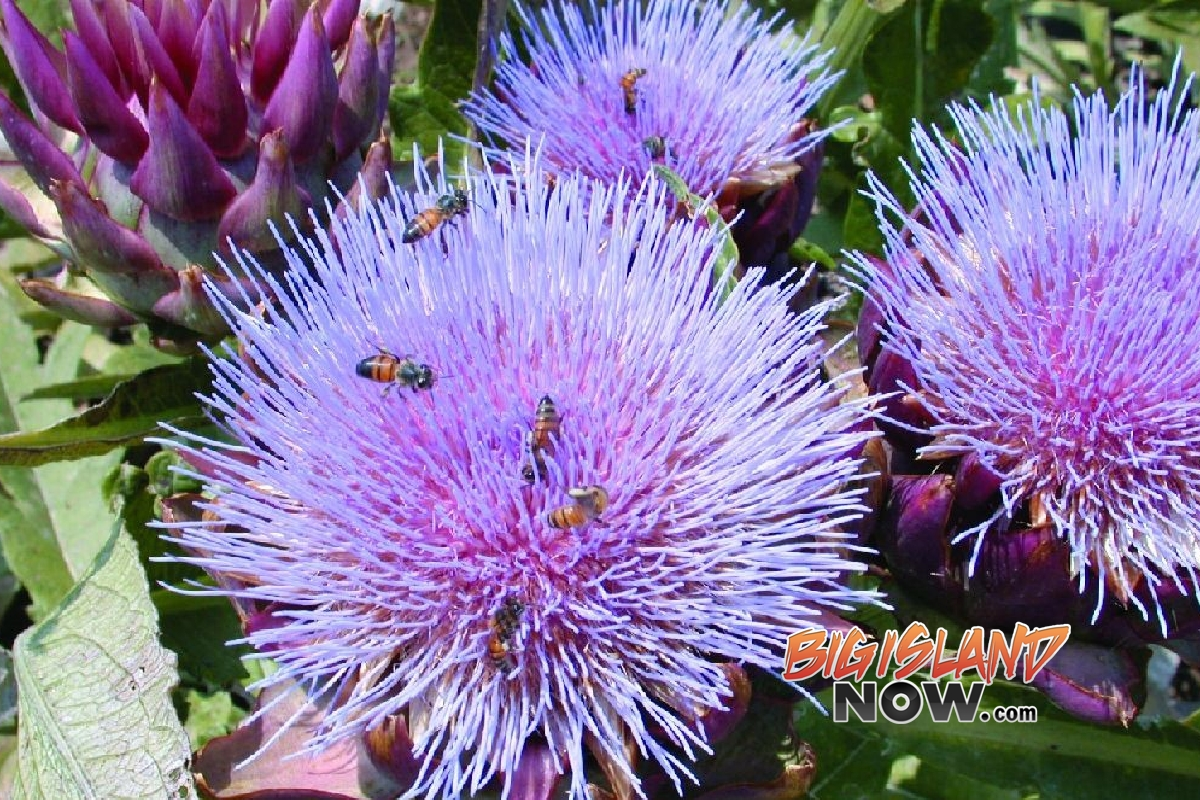thistle: (187, 203, 878, 800), (875, 80, 1200, 664), (469, 9, 822, 207)
